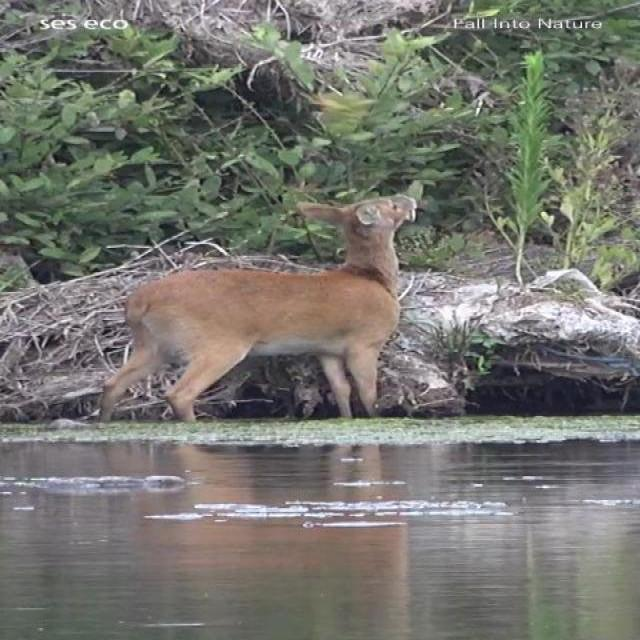deer: (96, 191, 420, 414)
